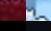altar: (0, 0, 26, 21)
